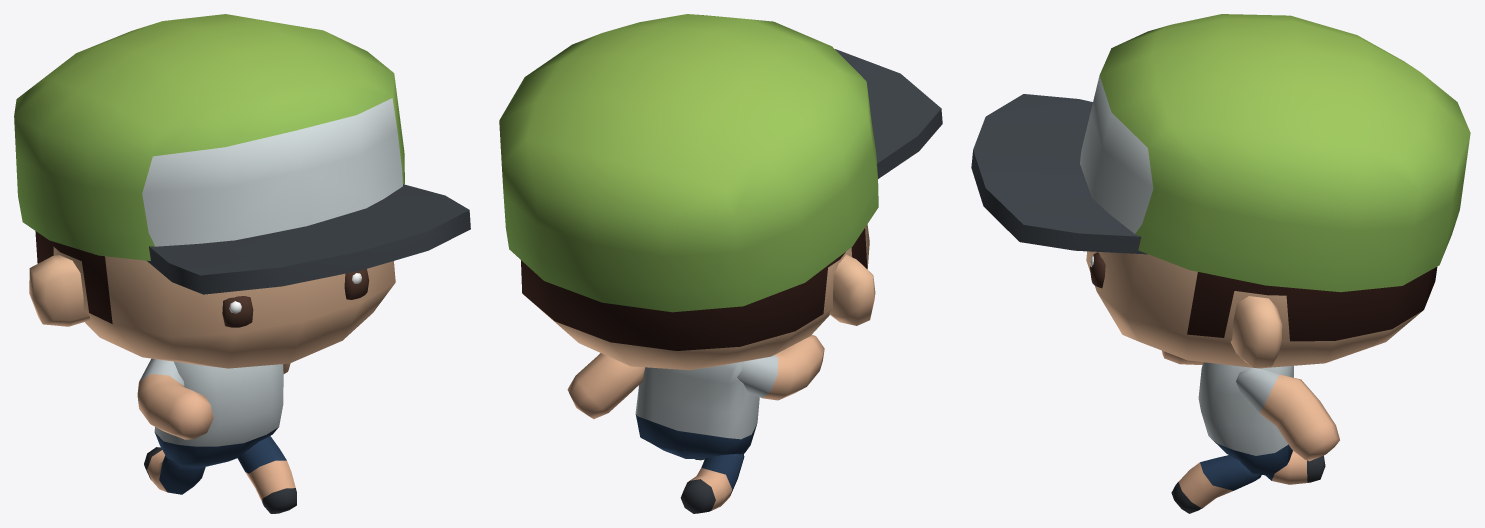
File: run_0001.obj
3 renders of one model, left to right at view 1: azimuth 30°, elevation 25°; view 2: azimuth 150°, elevation 25°; view 3: azimuth 270°, elevation 25°, orthographic. The views are drawn at different scales.
Visible parts, largest first — view 1: Object_41, Object_42, Object_36, Object_44, Object_38; view 2: Object_41, Object_36, Object_44, Object_42; view 3: Object_41, Object_36, Object_42, Object_44.
Part boxes in pixels (<box>): Object_41: <box>14,14,404,260</box>; Object_42: <box>142,98,470,294</box>; Object_36: <box>29,231,395,368</box>; Object_44: <box>137,358,296,513</box>; Object_38: <box>222,269,369,327</box>; Object_41: <box>499,14,878,312</box>; Object_36: <box>521,224,875,370</box>; Object_44: <box>567,335,824,513</box>; Object_42: <box>835,49,942,178</box>; Object_41: <box>1099,14,1470,292</box>; Object_36: <box>1086,251,1437,368</box>; Object_42: <box>971,75,1153,254</box>; Object_44: <box>1162,350,1339,513</box>.
Size of the model in its own units: 0.9691 by 1.16 by 1.15.
